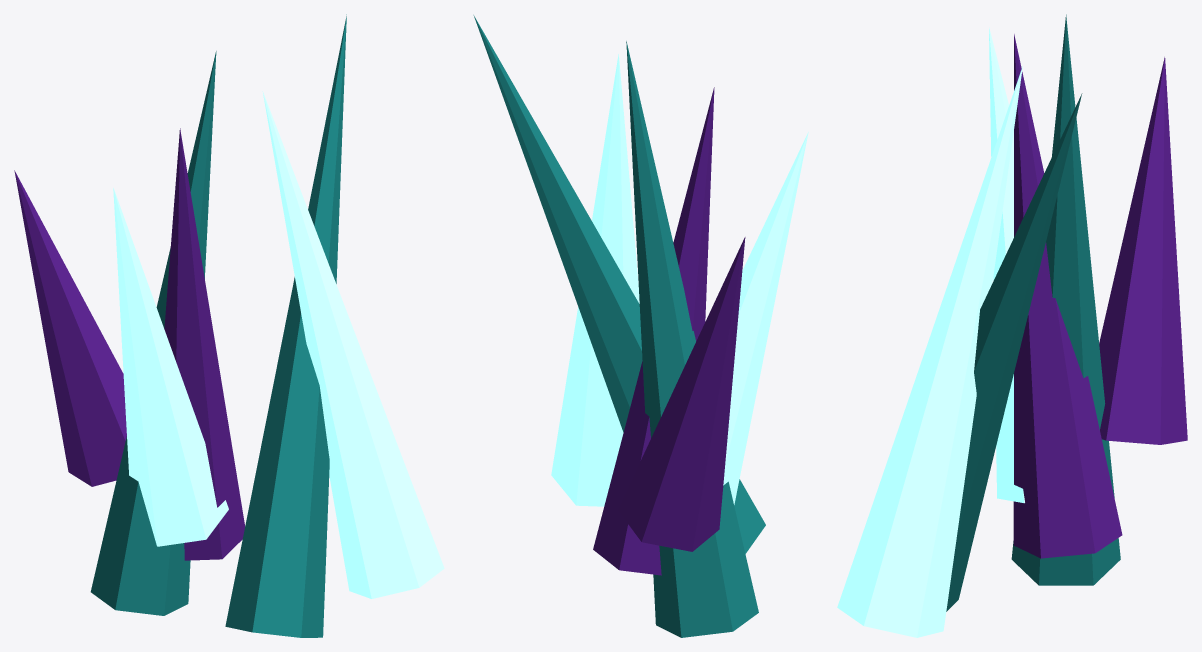
Rendered from Prop_OR_Crystal_07.glb.
3 views of the same model, side by side, from view 1: azimuth 30°, elevation 25°; view 2: azimuth 150°, elevation 25°; view 3: azimuth 270°, elevation 25° (orthographic). The views are drawn at different scales.
Visible parts, largest first — view 1: Prop_OR_Crystal_07; view 2: Prop_OR_Crystal_07; view 3: Prop_OR_Crystal_07.
Part boxes in pixels (bbox=[...]): Prop_OR_Crystal_07: bbox=[14, 14, 444, 637]; Prop_OR_Crystal_07: bbox=[473, 15, 808, 637]; Prop_OR_Crystal_07: bbox=[837, 14, 1187, 637].
Bounding box in the file's own units: 0.8667 × 1.52 × 0.8025.
